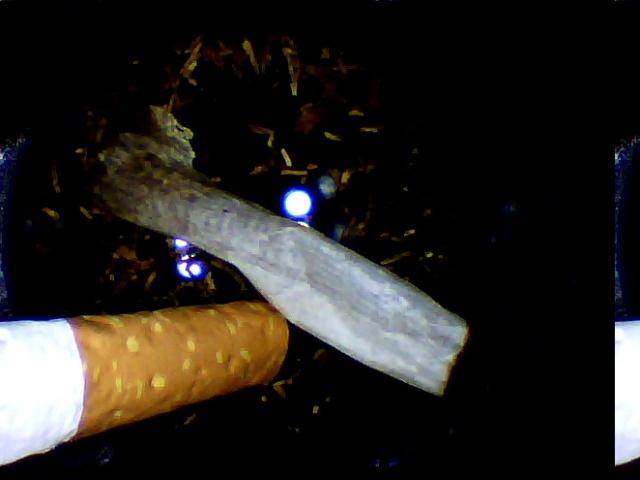megot: (85, 108, 468, 398), (1, 284, 293, 466)
